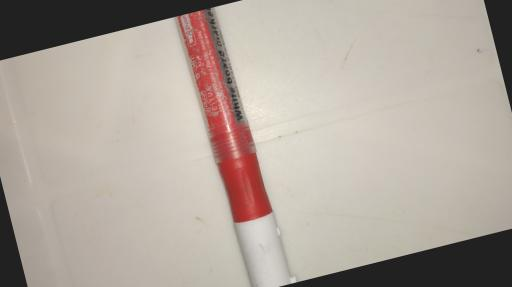Whiteboard marker: (178, 3, 294, 287)
